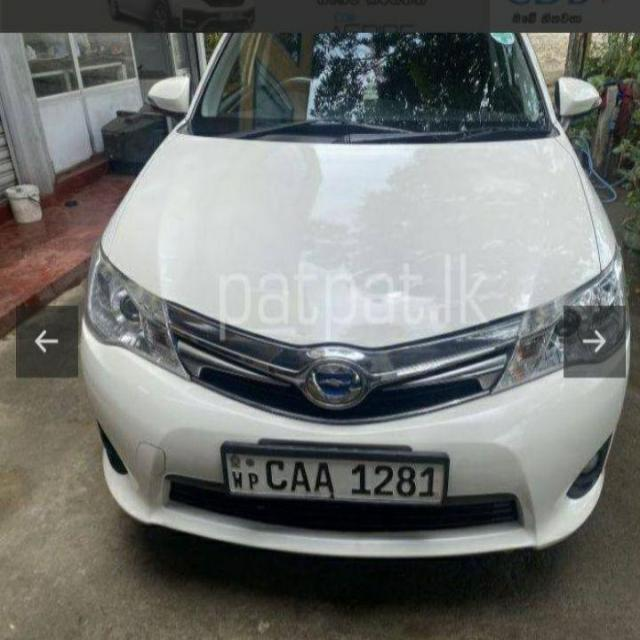license-plate: (224, 446, 444, 505)
